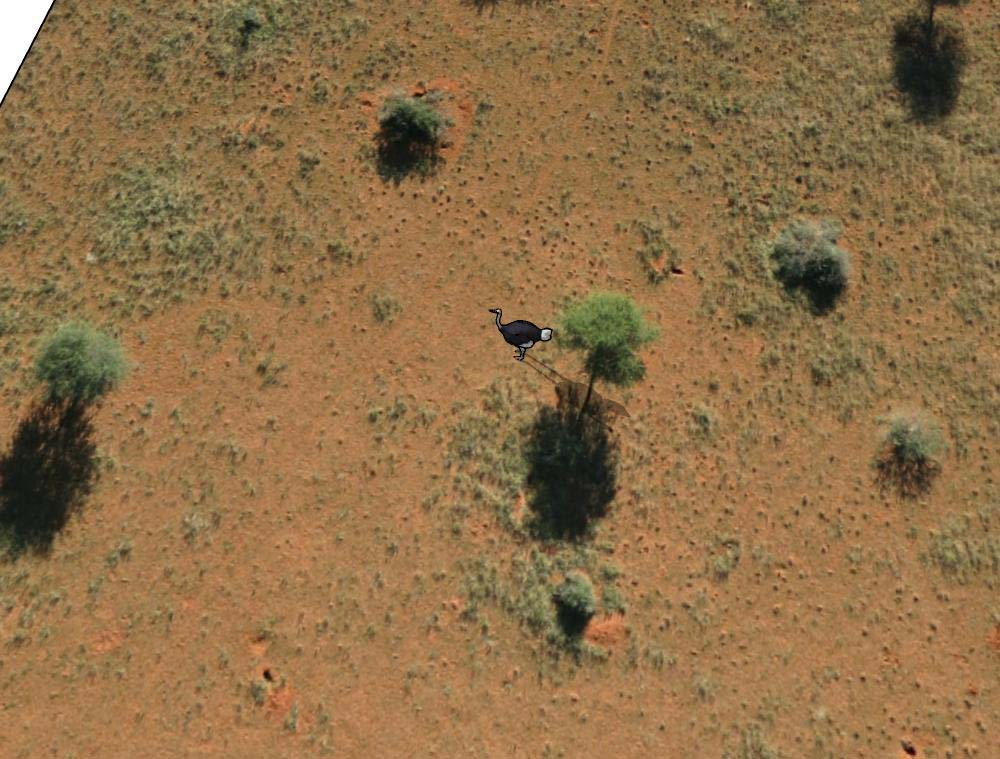springbok: (490, 302, 551, 364)
